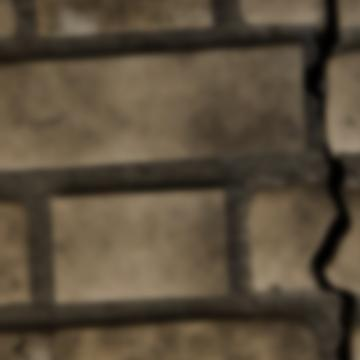brick: (0, 44, 307, 169), (51, 188, 230, 301), (52, 315, 320, 359), (37, 0, 212, 36), (0, 202, 33, 303), (328, 51, 359, 151), (21, 330, 51, 359), (0, 331, 23, 359), (0, 0, 16, 36), (354, 329, 359, 359)
broken_brick: (248, 181, 336, 291), (327, 187, 359, 293), (239, 0, 323, 24), (339, 0, 359, 28)
crack: (303, 0, 359, 359), (37, 329, 55, 359), (12, 331, 28, 359)
